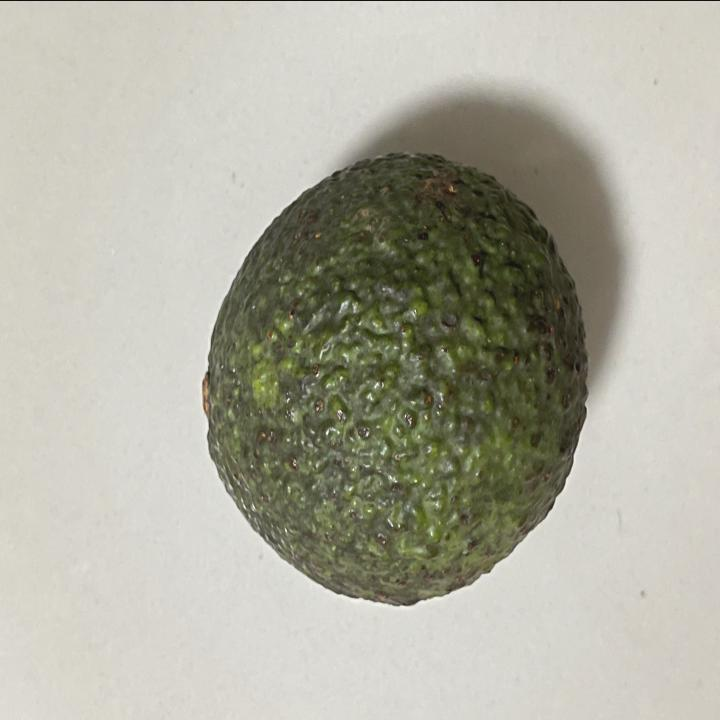Level1: (189, 136, 602, 616)
